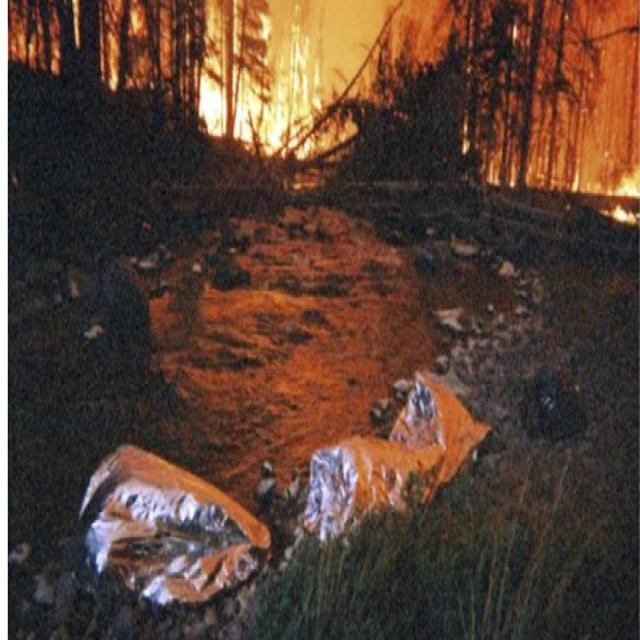Fire: (195, 0, 313, 155)
